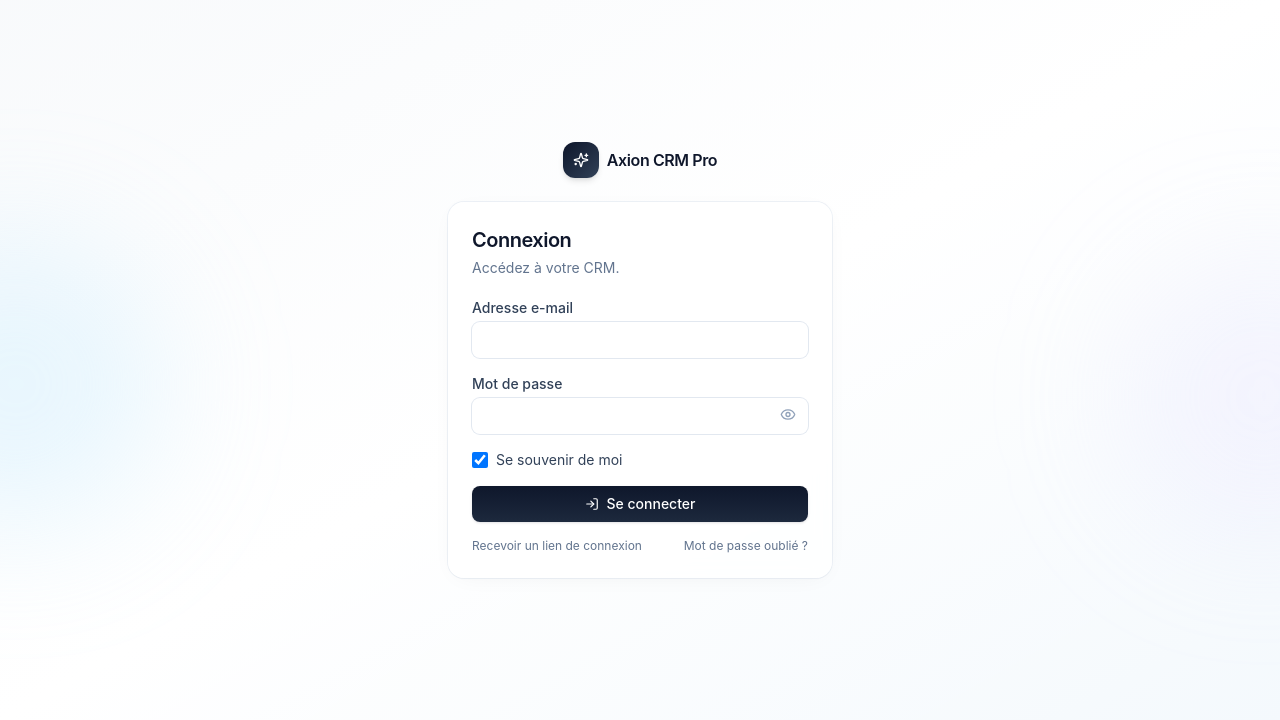
LoginPage — messages d’échec › 422 avec la CLÉ BRUTE `auth.failed` : message clair, jamais la clé
Type "will@axion-ia.com" into the field labelled "Adresse e-mail" at (640, 340), box [472,322,808,358]
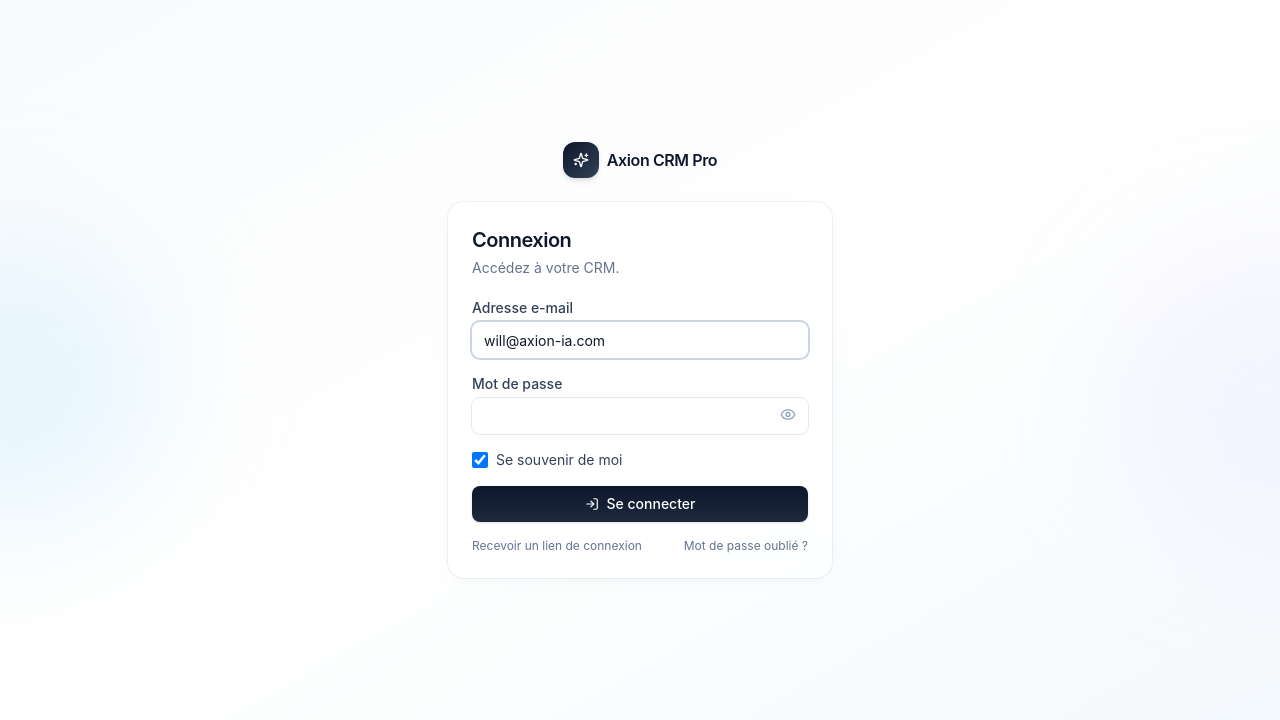
Type "faux-mot-de-passe" into the password field labelled "Mot de passe" at (640, 416), box [472,398,808,434]
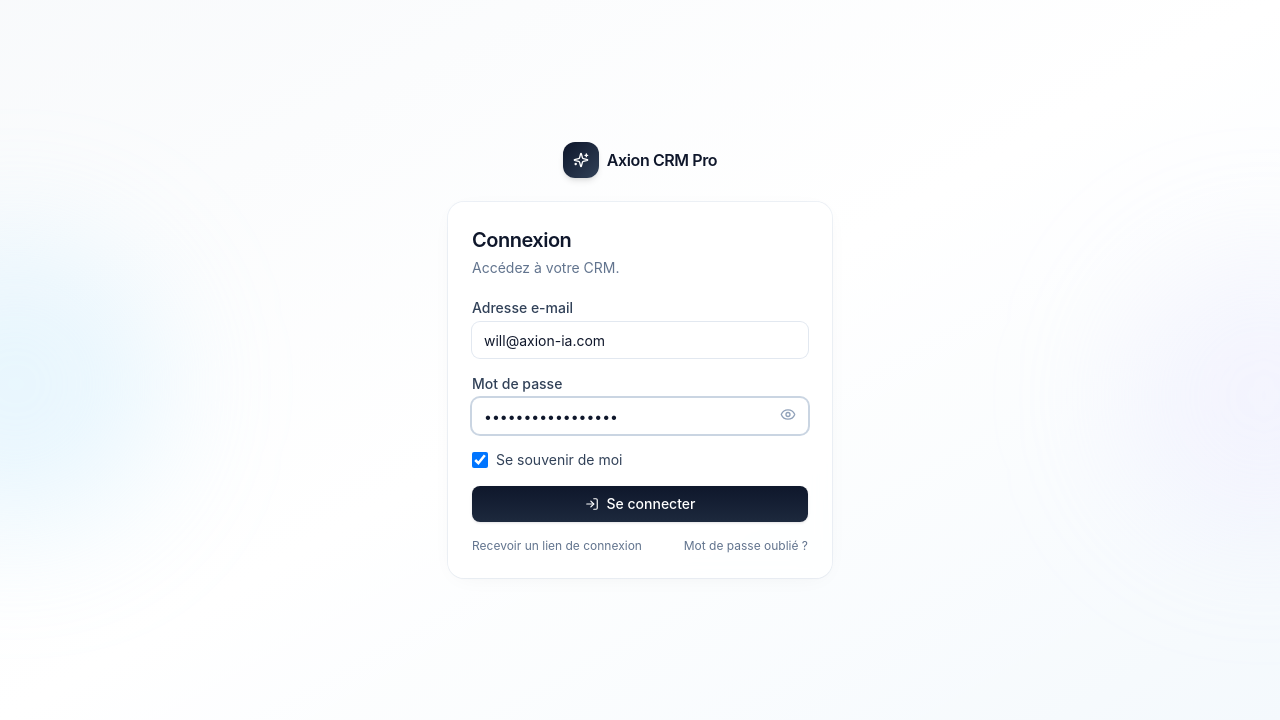
Click the button "Se connecter" at (640, 504), box [472,486,808,522]
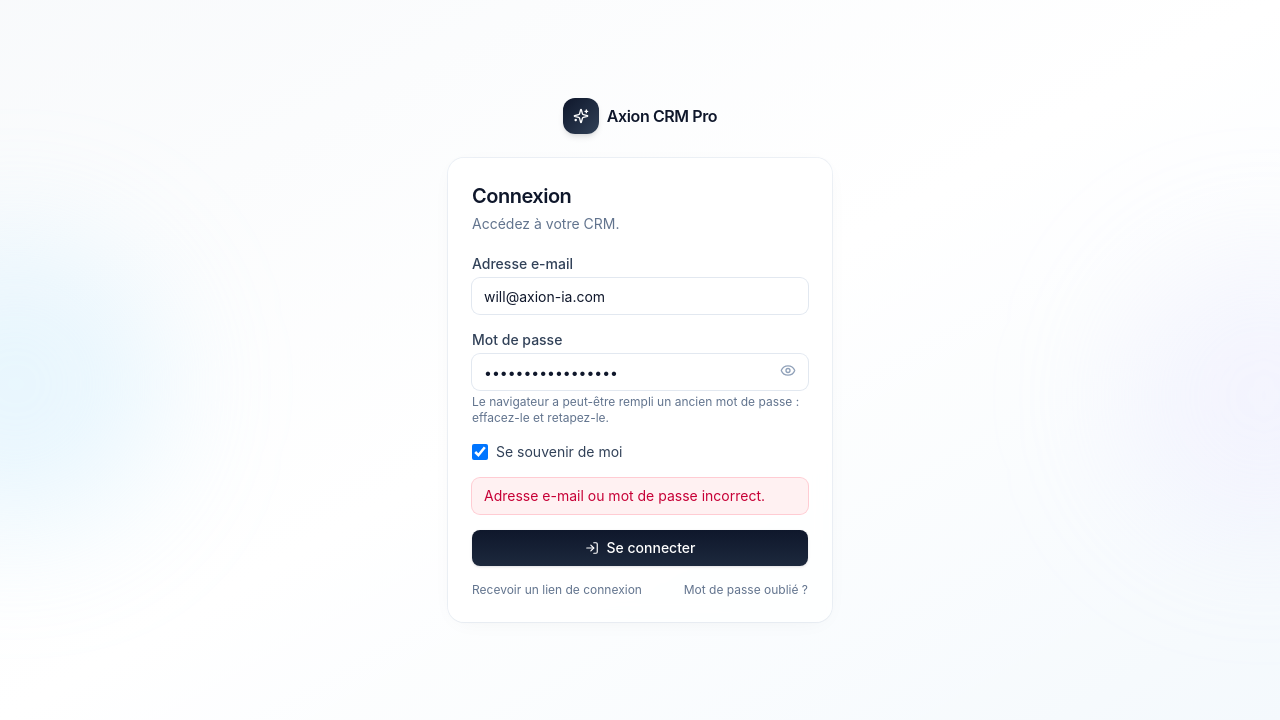
expect the message reads "Adresse e-mail ou mot de passe incorrect.": met, box [484,487,765,504]
